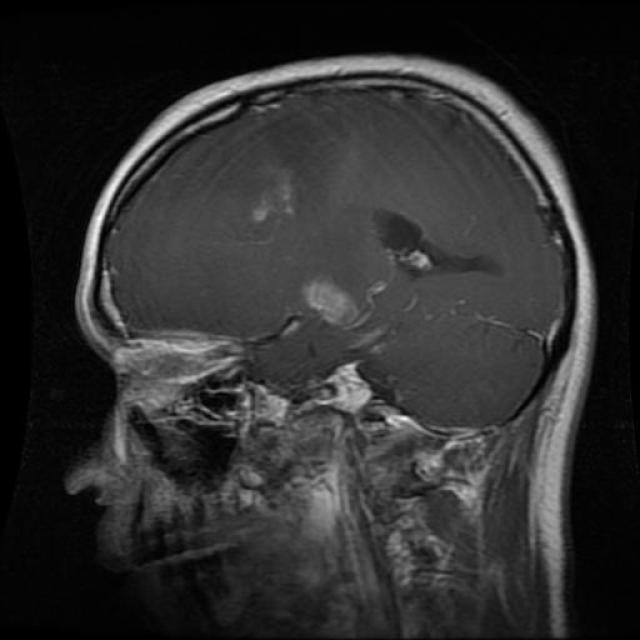brain_tumor: (302, 276, 360, 326), (248, 170, 301, 223)
